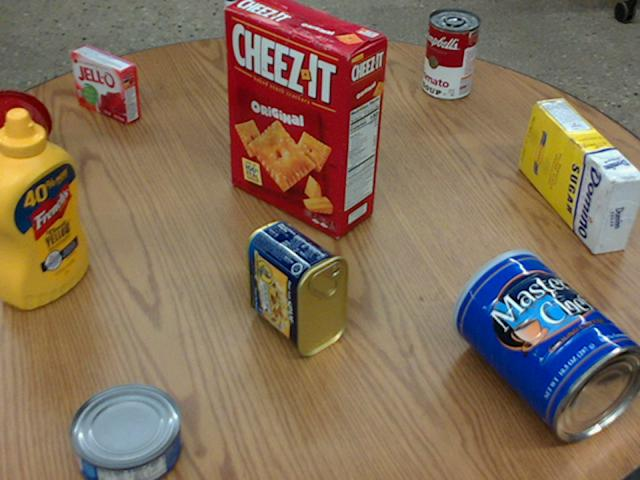cracker_box: (224, 0, 387, 234)
gelatin_box: (75, 45, 142, 123)
large_marker: (225, 0, 240, 63)
master_chef_can: (451, 248, 639, 440)
mug: (0, 89, 54, 192)
mustard_bottle: (0, 108, 90, 308)
potted_meat_can: (245, 220, 349, 356)
sugar_box: (519, 98, 639, 254)
tomato_soup_can: (423, 8, 481, 99)
tuna_fish_can: (69, 383, 180, 479)
